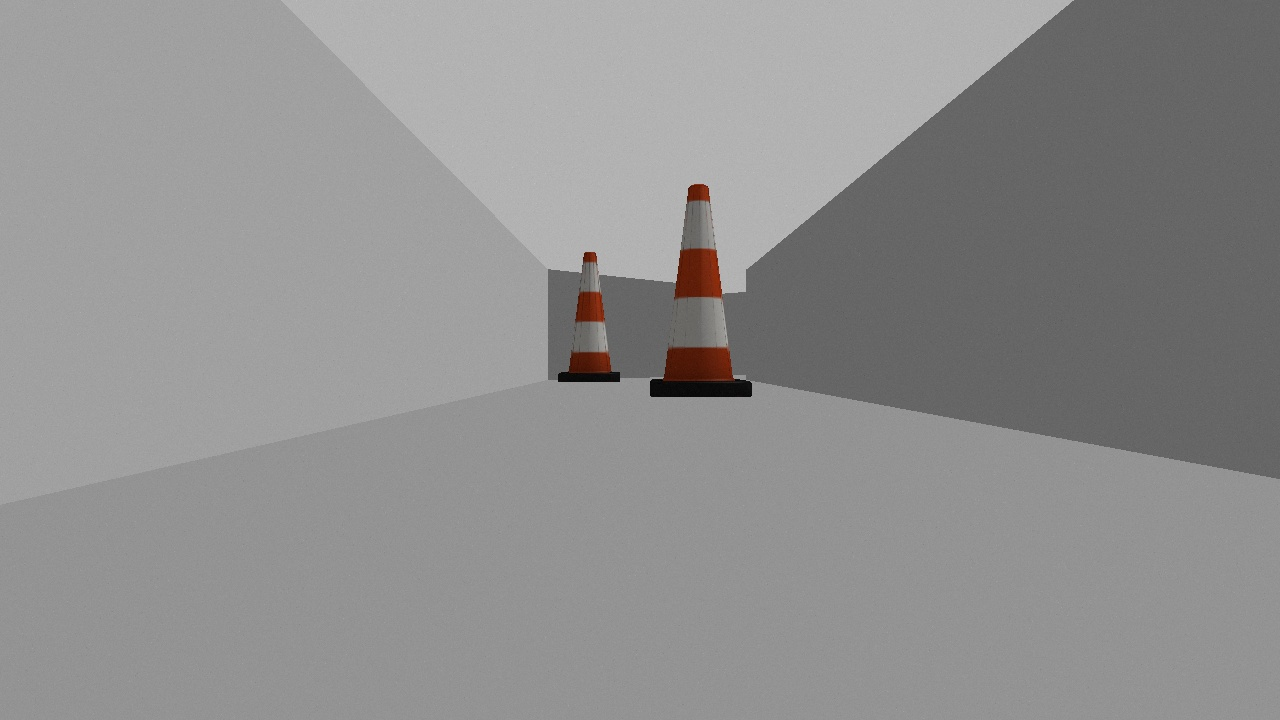barricade: (640, 179, 760, 406), (556, 249, 624, 388)
